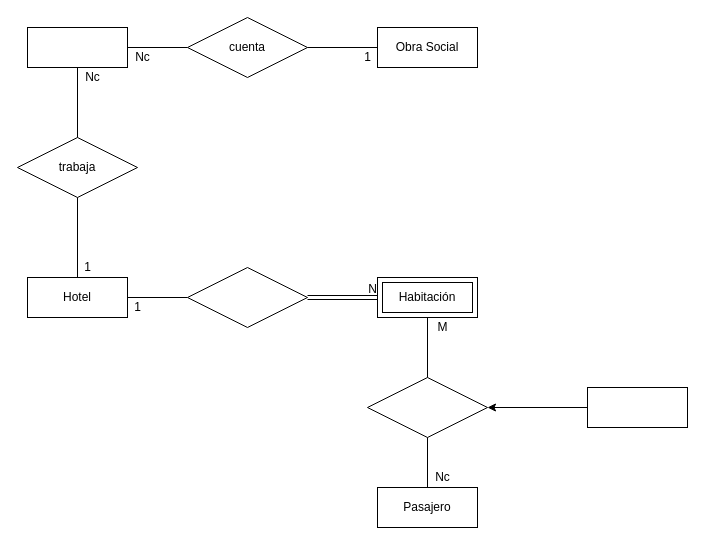
This 705x545 diagram has some shape labels left out. Each missing label, with the centre of its shape:
"Empleado" goes at pixel 77 47.
"Reserva" goes at pixel 637 407.
"tiene" goes at pixel 247 297.
